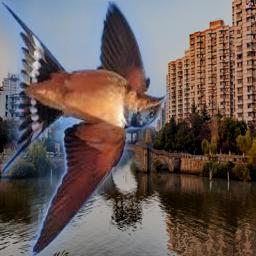Swallow: (1, 1, 170, 256)
